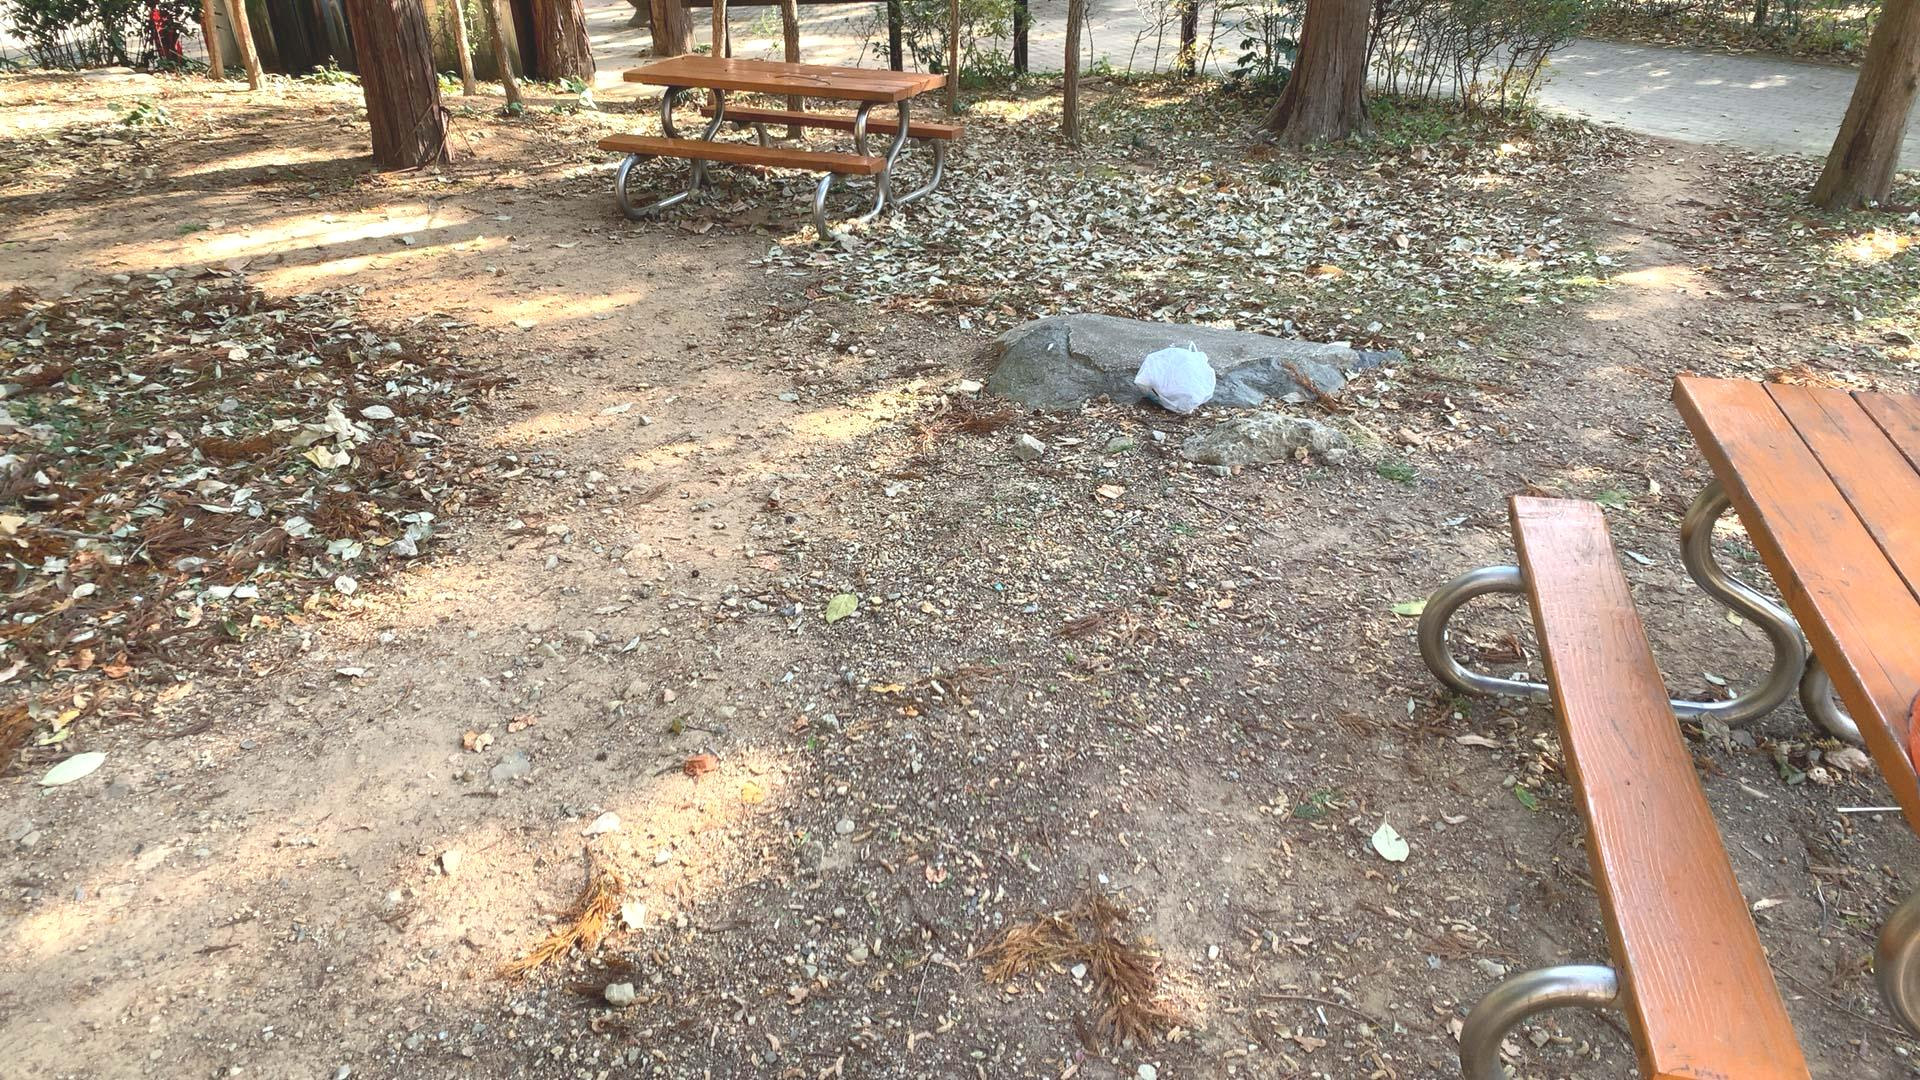white_bag: (1130, 340, 1220, 419)
